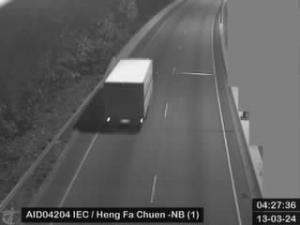truck: (104, 58, 154, 132)
